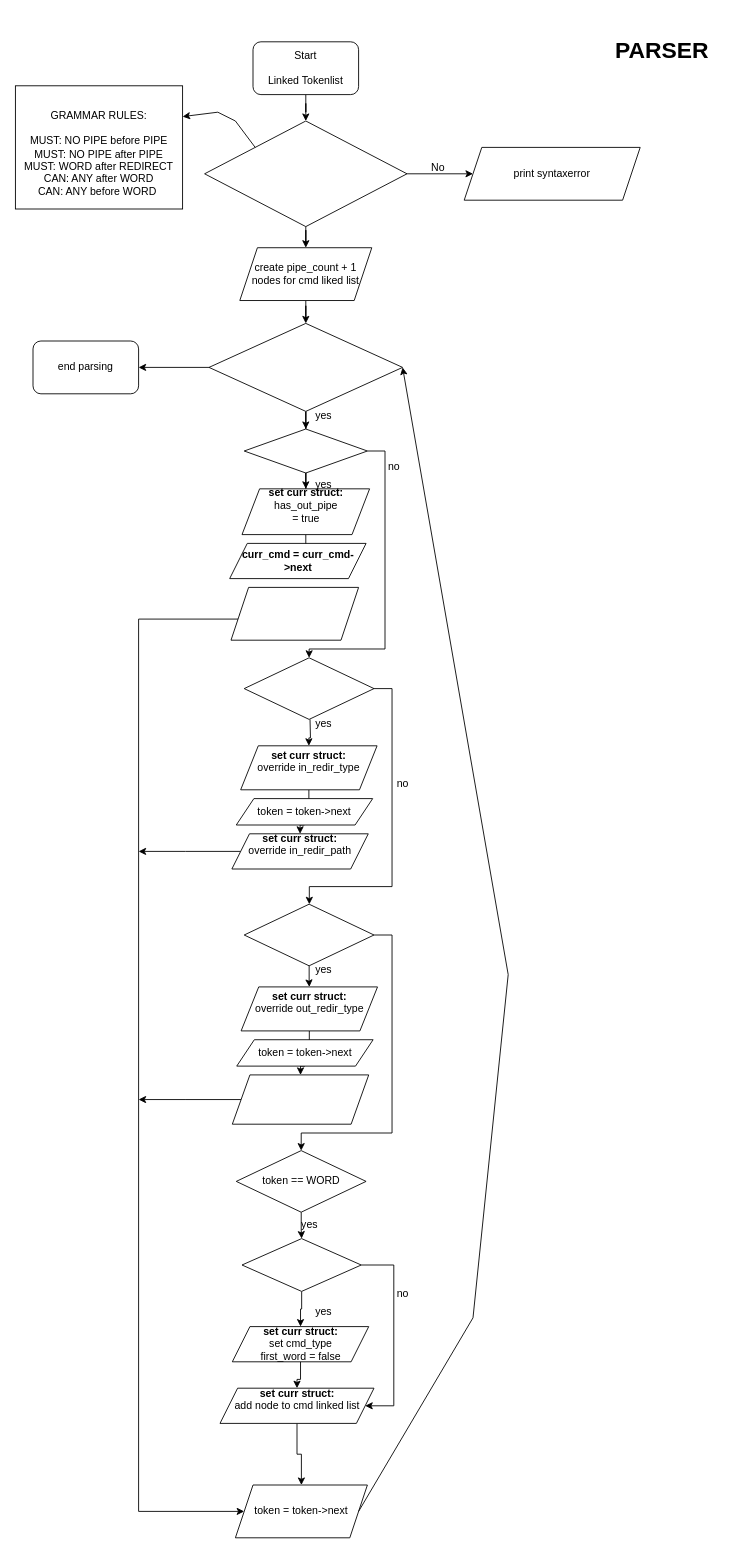
The diagram is 752 pixels wide and 1553 high, and some of its shapes have lost their labels. The centre of each missing label's shape, as x and y in pixels:
"first_word?" belongs at point (301, 1264).
"ft_check_grammar == OK?" belongs at point (305, 173).
"set curr struct: add node to out_redir_path llist" belongs at point (300, 1099).
"set curr struct: has_in_pipe = true first_word = true" belongs at point (294, 613).
"token != NULL?" belongs at point (305, 367).
"token == I_RED || I_RED_HD" belongs at point (308, 688).
"token == O_RED || O_RED_APP" belongs at point (308, 934).
"token == PIPE?" belongs at point (305, 450).
